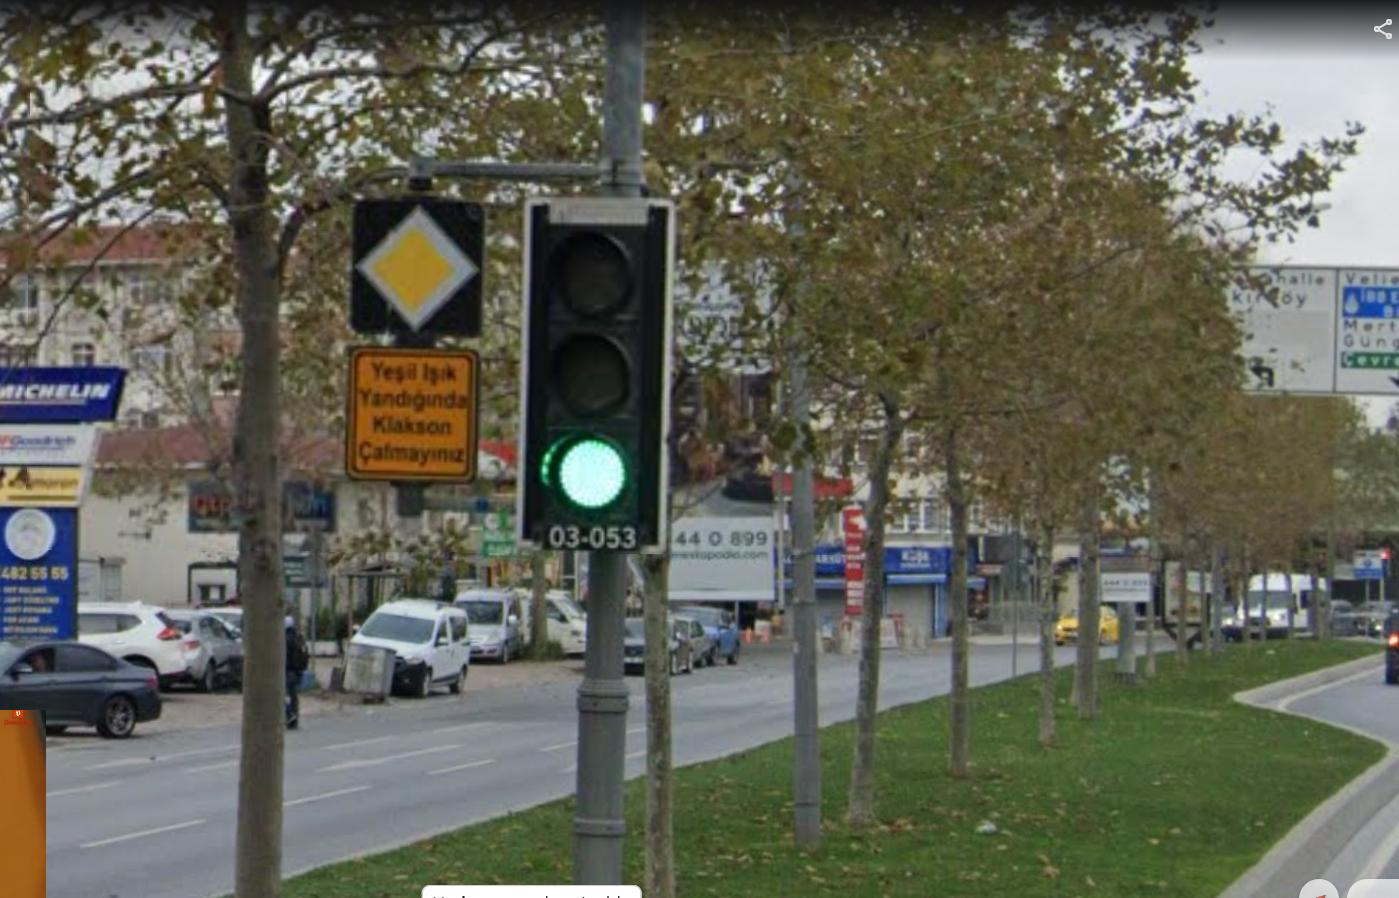greenlight: (519, 199, 659, 543)
